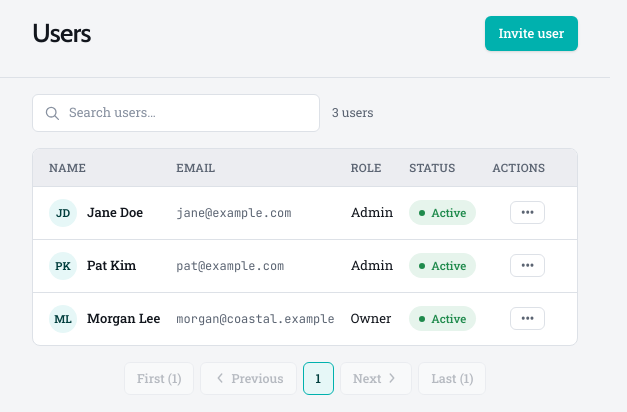
Test: UsersPage › shows Transfer Ownership on a Customer Owner's own row when they're the one logged in
Click the button named "Actions for Morgan Lee" at (528, 319), box [510, 307, 545, 330]
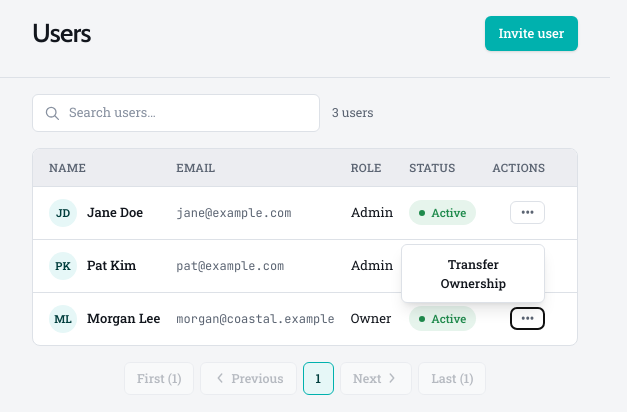
Result: the menu item "Transfer Ownership" is shown at [402, 249, 544, 298]
